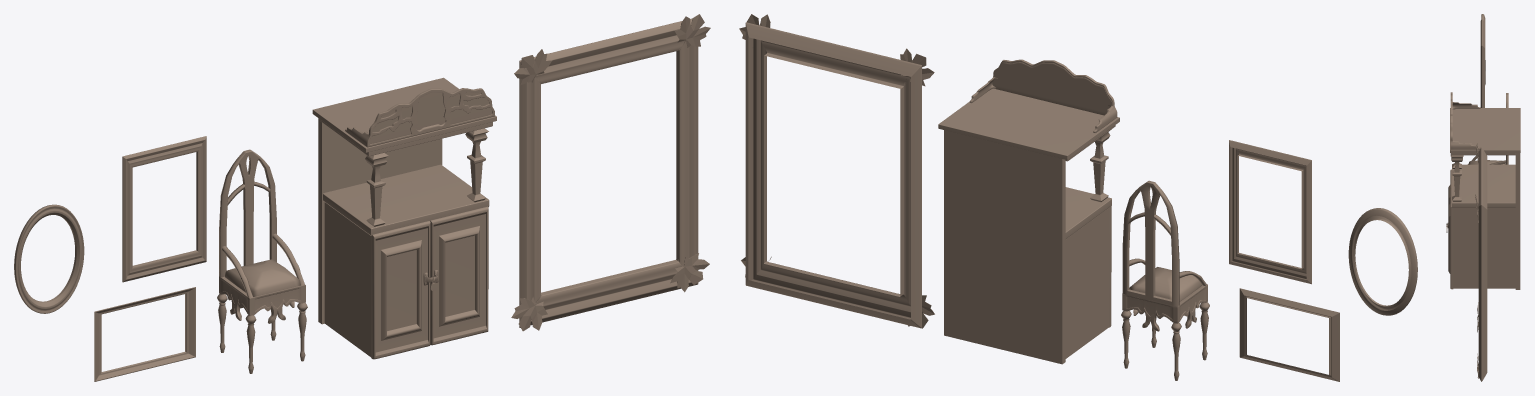
File: ClosetSet1.fbx
The picture shows the model from 3 angles, left to right: view 1: azimuth 30°, elevation 25°; view 2: azimuth 150°, elevation 25°; view 3: azimuth 270°, elevation 25°; orthographic projection. The views are drawn at different scales.
Parts seen in each view (by area): view 1: closet, frame4, chair, frame1, frame2, frame3; view 2: closet, frame4, chair, frame1, frame2, frame3; view 3: closet, frame4, frame1, chair, frame3.
Boxes of the visible parts, x1,y1,x2,y2 form: closet: [312, 77, 496, 359]; frame4: [511, 14, 710, 331]; chair: [217, 149, 307, 373]; frame1: [122, 136, 206, 282]; frame2: [94, 287, 195, 381]; frame3: [14, 204, 84, 313]; closet: [938, 59, 1119, 364]; frame4: [739, 14, 934, 328]; chair: [1121, 180, 1209, 380]; frame1: [1229, 140, 1311, 284]; frame2: [1239, 288, 1339, 381]; frame3: [1348, 208, 1417, 315]; closet: [1446, 92, 1520, 289]; frame4: [1475, 143, 1487, 381]; frame1: [1480, 18, 1484, 107]; chair: [1467, 93, 1508, 164]; frame3: [1481, 14, 1485, 84].
Bounding box in the file's own units: 691 × 273 × 96.99.
